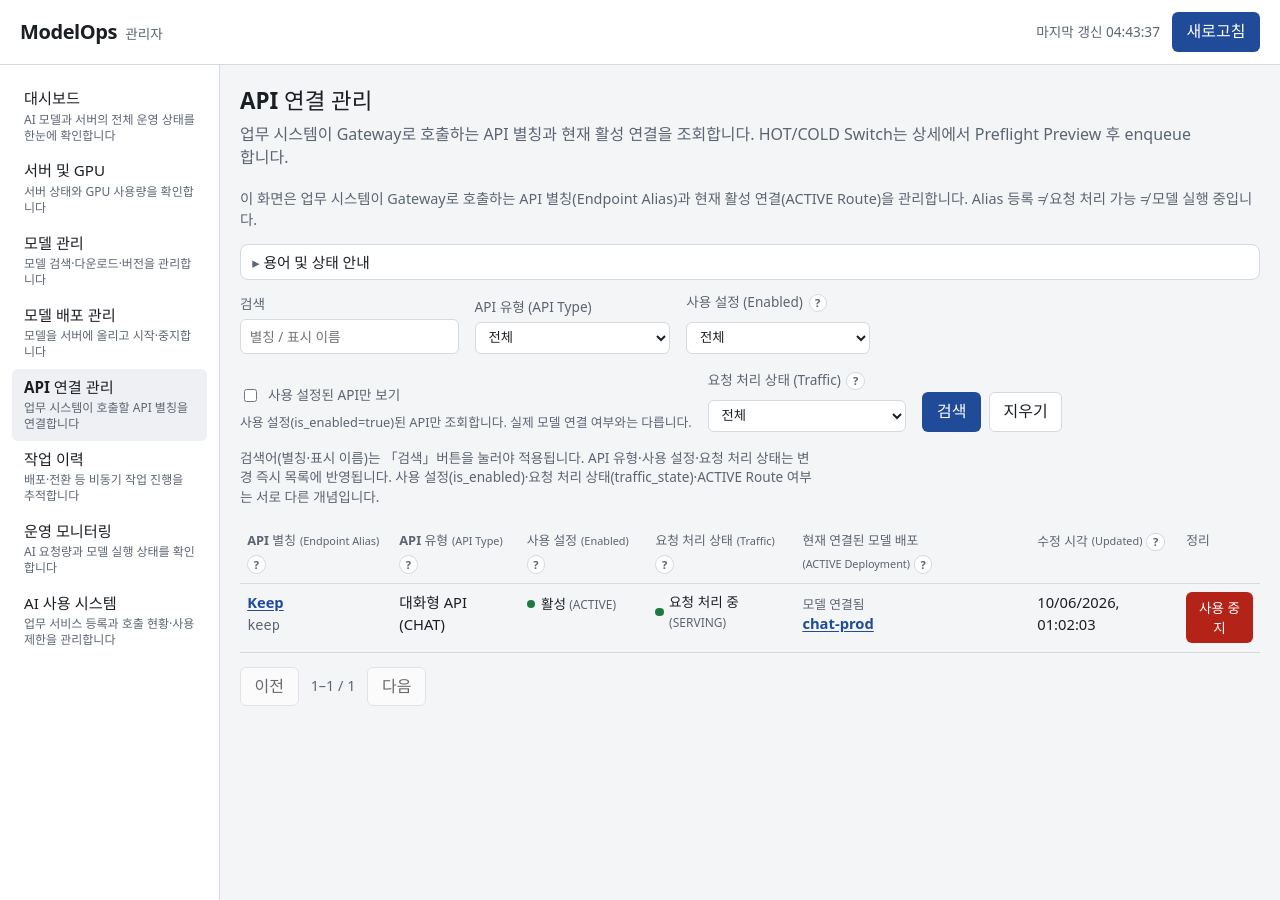
Scenario: EndpointsPage › preserves rows on refresh failure
Expected: the link "Keep" is shown, [247, 592, 284, 612]
Click the button "새로고침" at (1216, 32), box [1172, 12, 1260, 52]
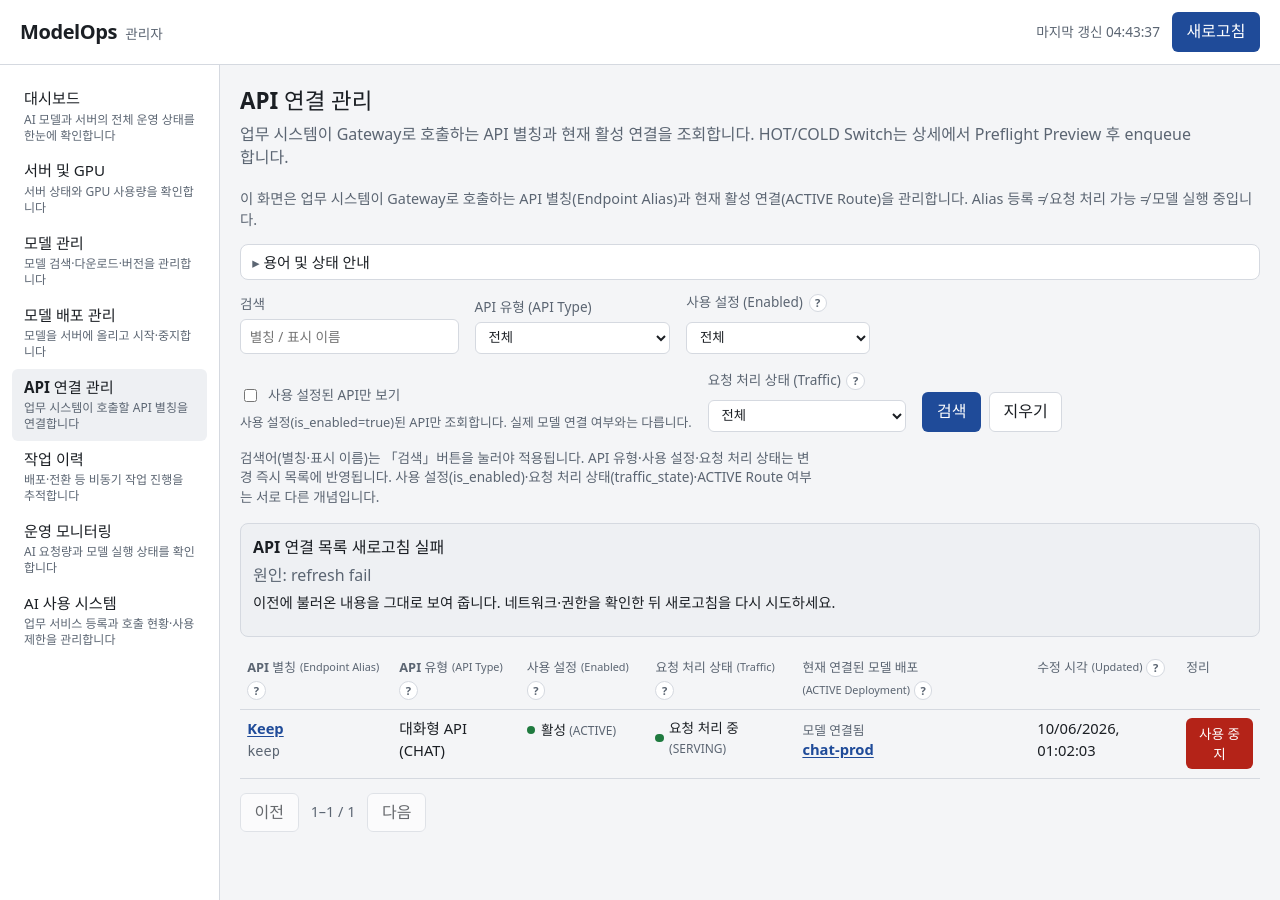
Expected: the link "Keep" is shown, [247, 718, 284, 738]
Now the text "원인: refresh fail" is shown, box [253, 564, 372, 586]
